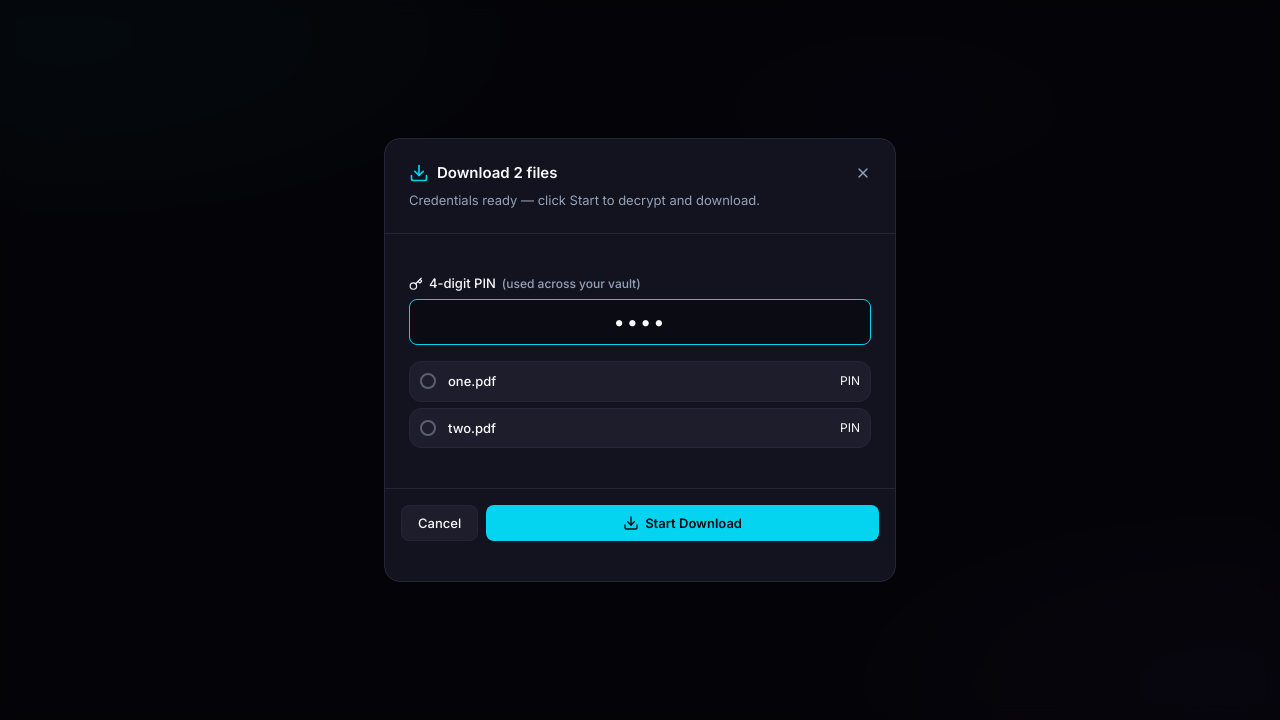
Test: BulkDownloadModal › stops at the first server failure instead of cascading through the batch
Click the button "Start Download".
click(683, 523)  # box left=486, top=505, right=879, bottom=541
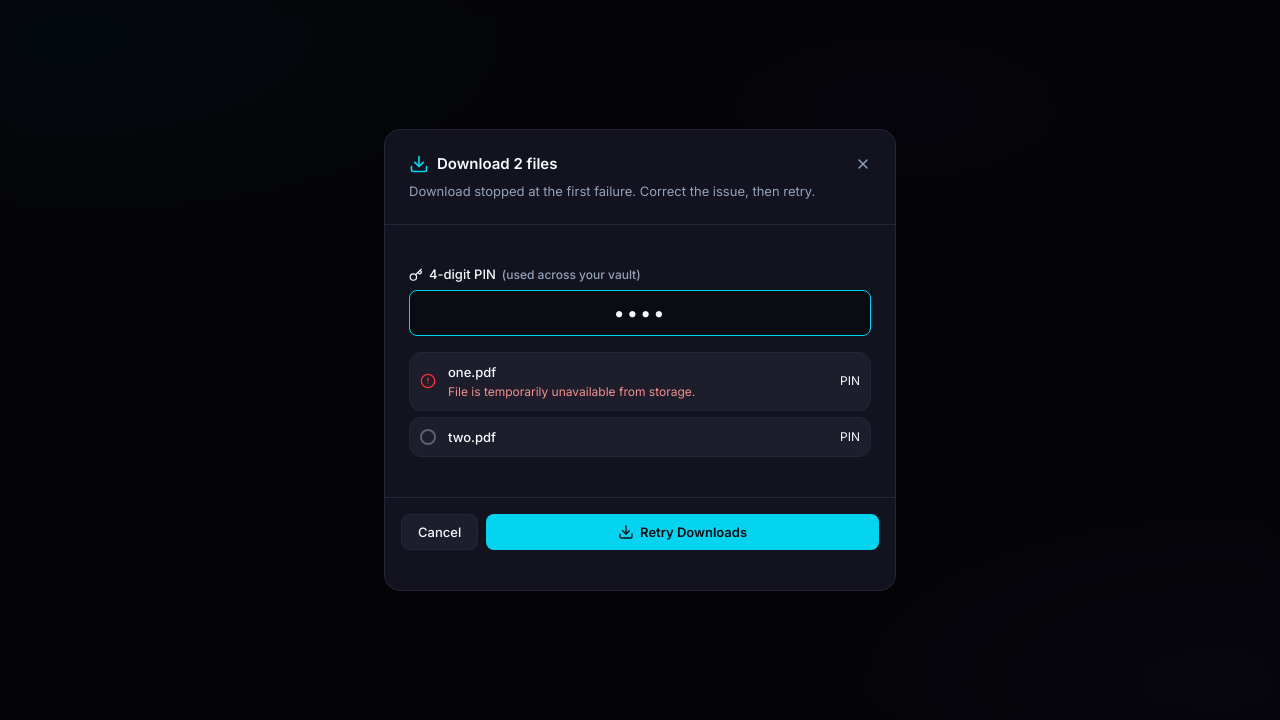
Expected: the text "File is temporarily unavailable from storage." is shown, left=448, top=384, right=695, bottom=399
